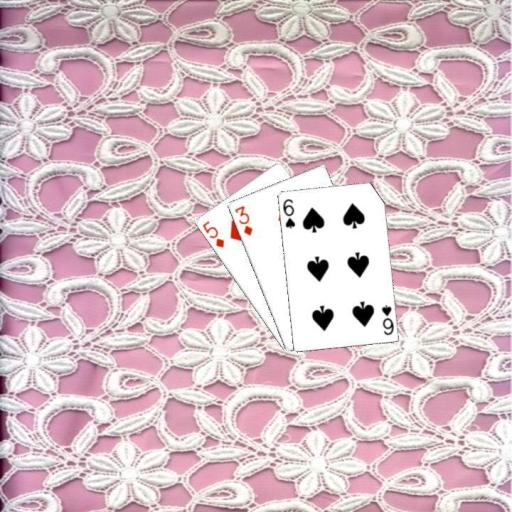3D: (231, 202, 254, 237)
5D: (199, 217, 226, 249)
6S: (378, 302, 395, 337), (279, 196, 296, 230)
